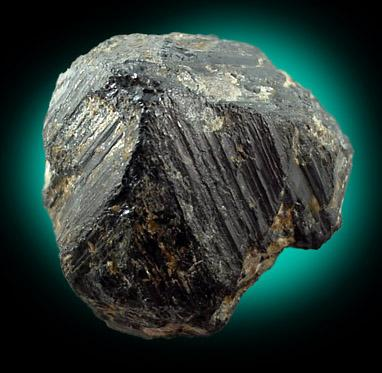magnetite: (44, 33, 353, 328)
